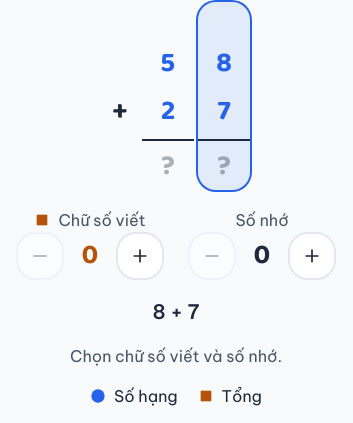
it: ColumnTry › keeps the working digit as ? until the child changes something
The width and height of the screenshot is (353, 423).
Expected: the picture shows "?", [161, 144, 175, 189]
Click the button named "Tăng chữ số viết": (140, 256) [116, 232, 164, 280]
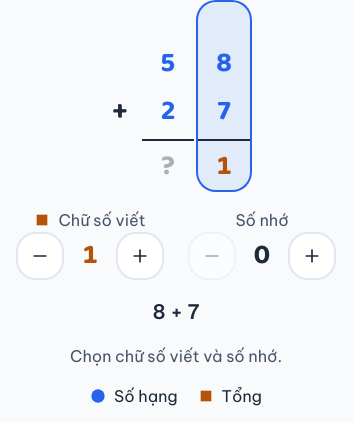
Expected: the 1st text "1" is shown, [216, 144, 232, 189]
